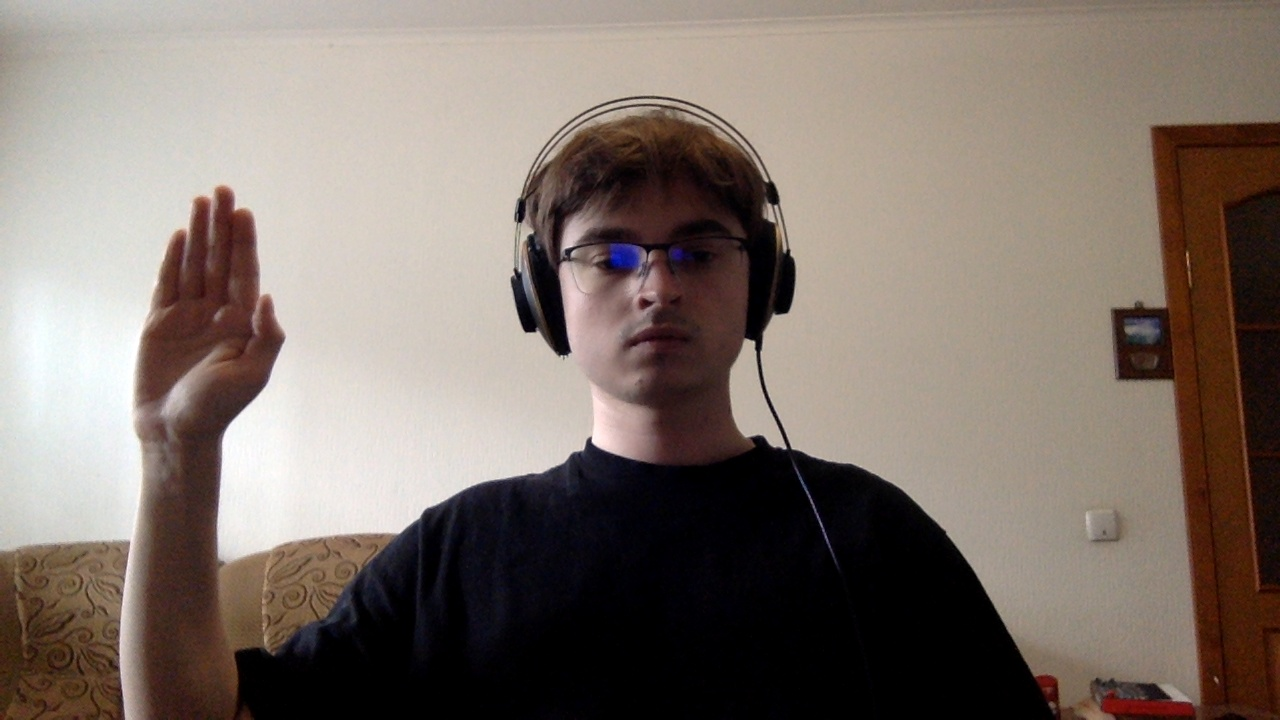hello: (100, 166, 325, 466)
